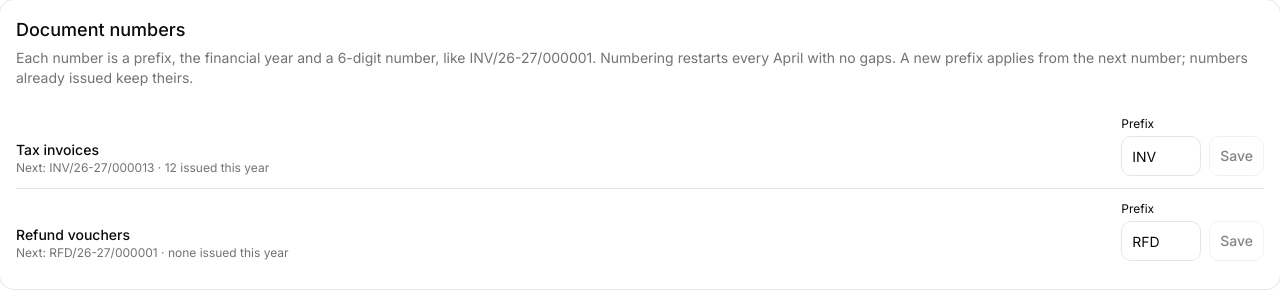
Test case: Document numbers › shows the next numbers and changes a prefix for those who manage settings
Expected: the text "Next: INV/26-27/000013 · 12 issued this year" is shown, 16,160 -> 269,176
Step 1. Replace the text in the field labelled "Prefix" in the row of "Tax invoices" with "sd" → (1161, 156), box 1121,136 -> 1201,176
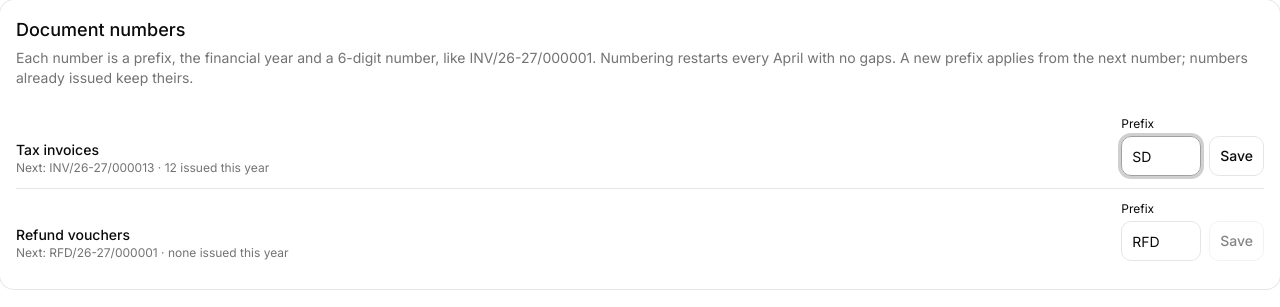
Step 2. Click the button "Save" in the row of "Tax invoices" → (1237, 156), box 1209,136 -> 1264,176
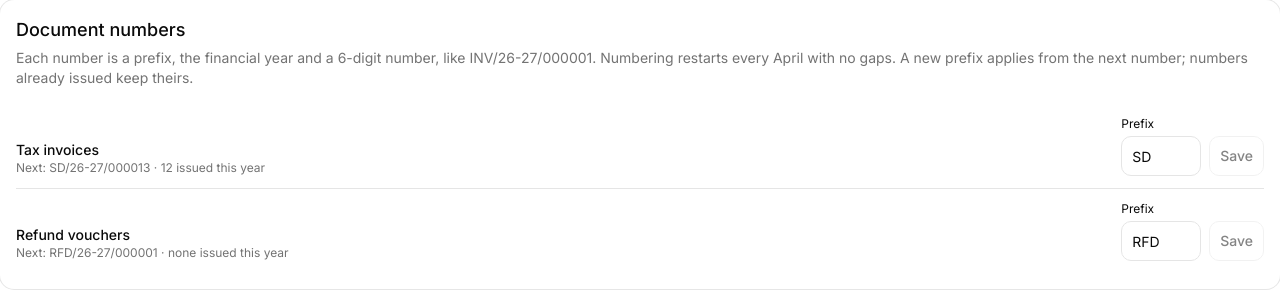
Result: the text "Next: SD/26-27/000013 · 12 issued this year" is shown at 16,160 -> 265,176
